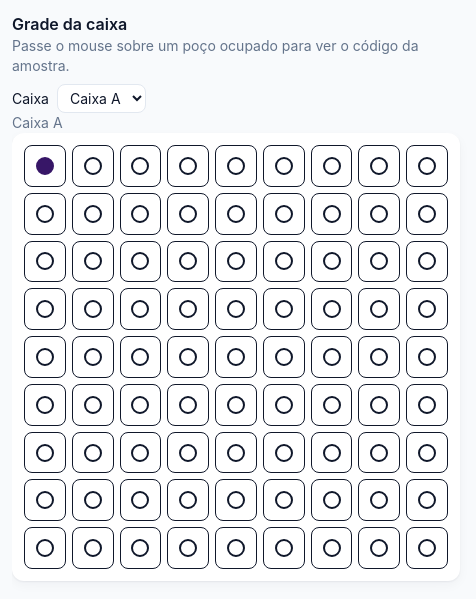
Scenario: InventoryBoxGrid › shows the allocated well code and switches boxes
Step 1. Select "Caixa B" in the dropdown labelled "Caixa" → (102, 98), box [57, 84, 146, 113]
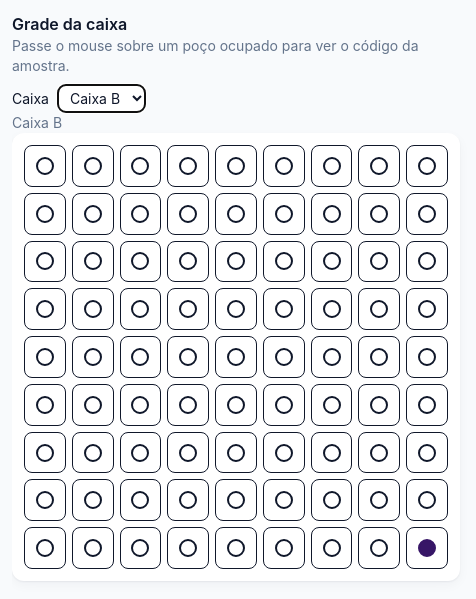
Expected: the button named "Posição I9 ocupado, amostra SPC-9" has attribute data-tooltip="SPC-9", [406, 527, 448, 569]
